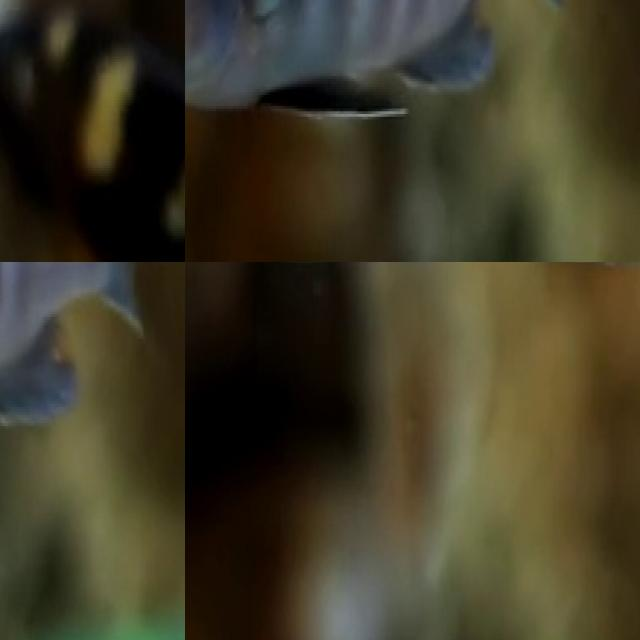fish: (0, 0, 185, 262), (185, 0, 589, 114), (0, 262, 177, 434)
